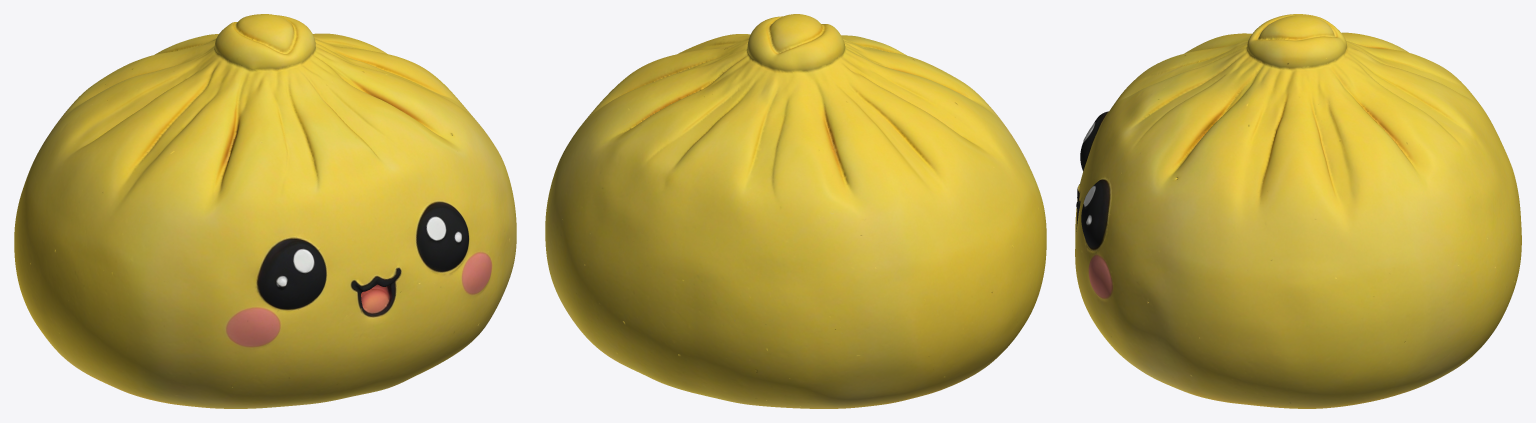
Rendered from dumpling.glb.
The picture shows the model from 3 angles, left to right: view 1: azimuth 30°, elevation 25°; view 2: azimuth 150°, elevation 25°; view 3: azimuth 270°, elevation 25°; orthographic projection.
Visible parts, largest first — view 1: Object_4, Object_5, Object_6, Object_7; view 2: Object_6, Object_5, Object_7, Object_4; view 3: Object_5, Object_6, Object_4, Object_7.
Part boxes in pixels (bbox=[...]): Object_4: bbox=[90, 65, 516, 408]; Object_5: bbox=[14, 33, 516, 401]; Object_6: bbox=[14, 14, 442, 393]; Object_7: bbox=[63, 34, 487, 381]; Object_6: bbox=[546, 14, 1038, 408]; Object_5: bbox=[545, 33, 1046, 408]; Object_7: bbox=[694, 20, 1044, 334]; Object_4: bbox=[747, 34, 1046, 319]; Object_5: bbox=[1182, 23, 1463, 407]; Object_6: bbox=[1217, 14, 1521, 408]; Object_4: bbox=[1075, 44, 1270, 402]; Object_7: bbox=[1204, 24, 1270, 404].
Bounding box in the file's own units: 2 × 1.38 × 1.8.
Materials: 1 (1 with a texture image).
